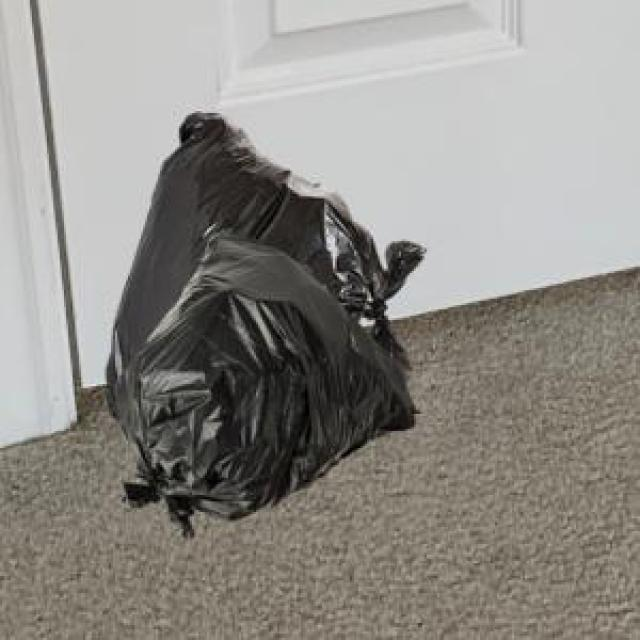waste: (108, 112, 420, 536)
